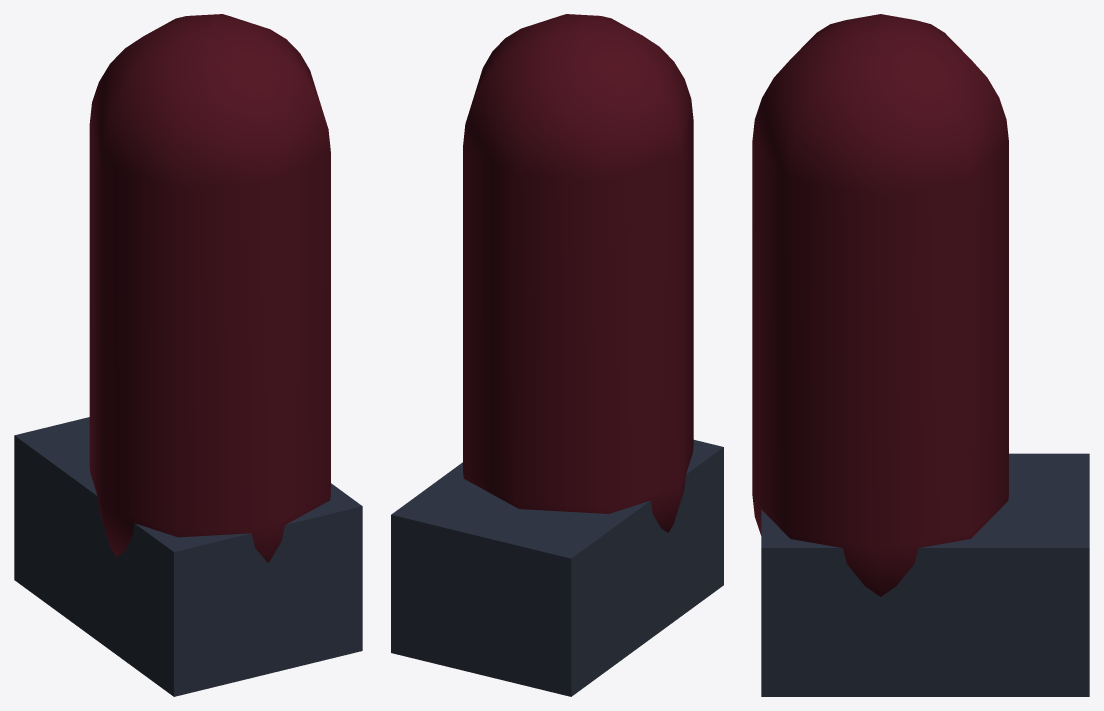
File: original_elite_leg.glb
3 renders of one model, left to right at view 1: azimuth 30°, elevation 25°; view 2: azimuth 150°, elevation 25°; view 3: azimuth 270°, elevation 25°, orthographic. The views are drawn at different scales.
Visible parts, largest first — view 1: original_elite_leg; view 2: original_elite_leg; view 3: original_elite_leg.
Boxes of the visible parts, x1,y1,x2,y2 form: original_elite_leg: (14,14,362,696); original_elite_leg: (391,14,723,696); original_elite_leg: (752,14,1089,696).
Bounding box in the file's own units: 0.172 × 0.461 × 0.226.
1 material, 1 textured.
